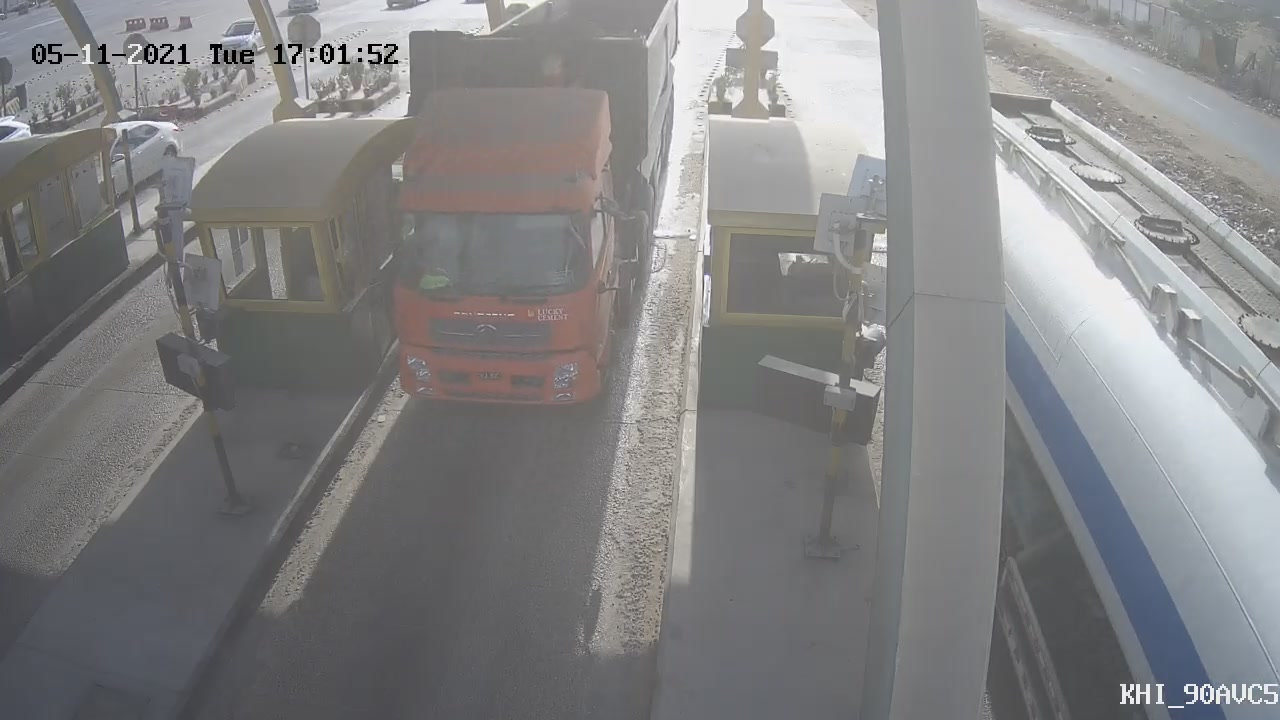F6: (337, 3, 704, 444)
